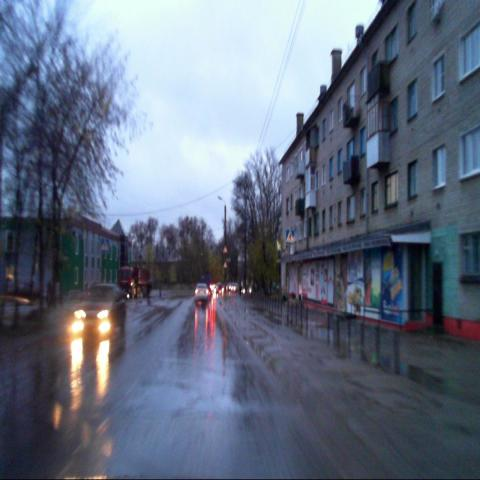5_19_1: (286, 228, 294, 244)
